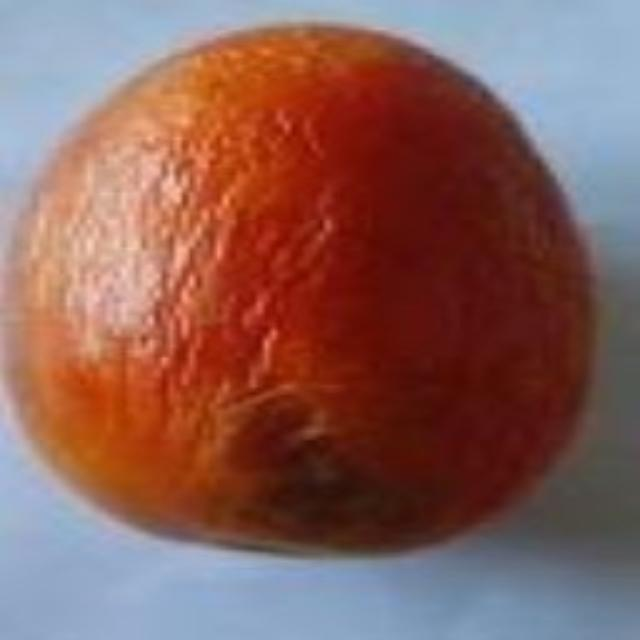defect: (13, 20, 591, 566)
